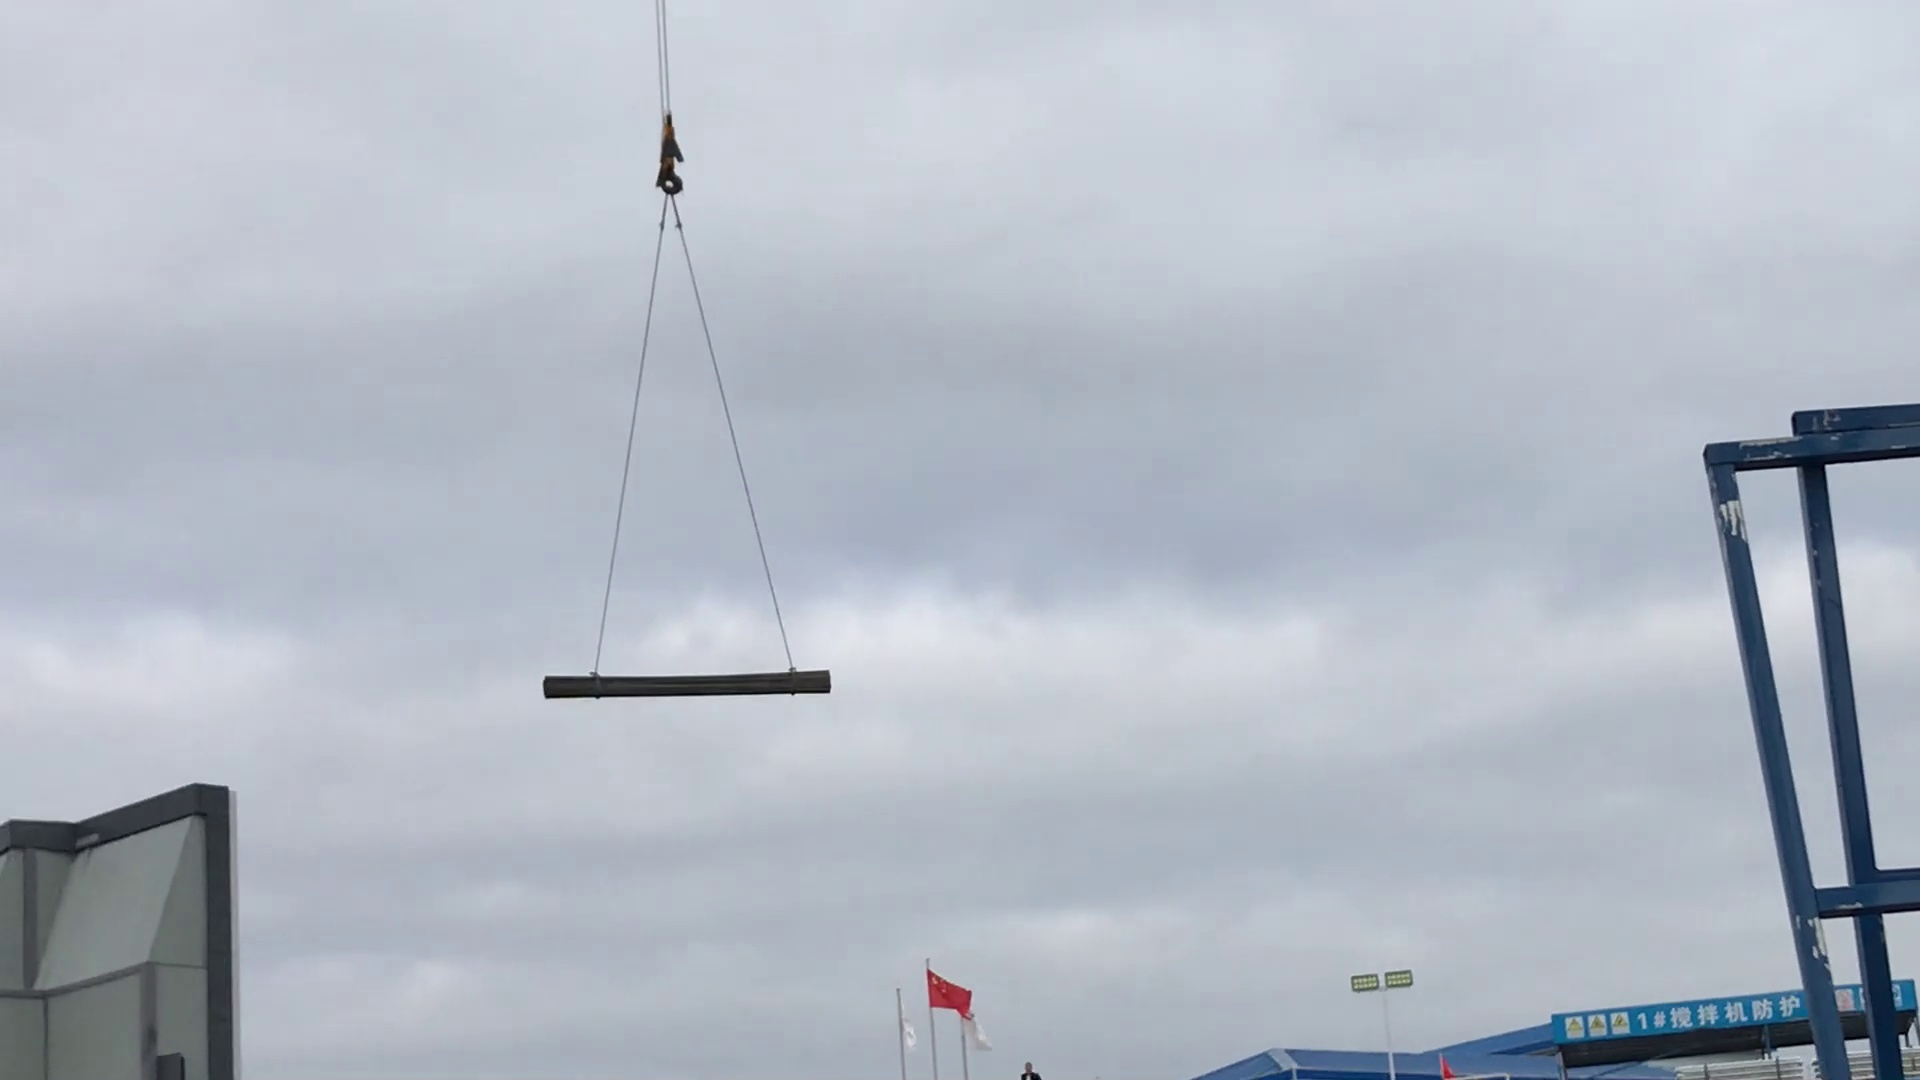rebar: (535, 667, 837, 703)
